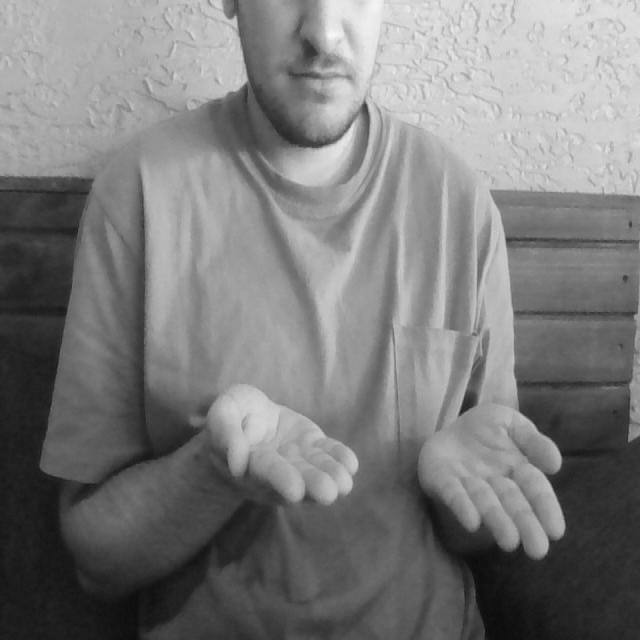Evet: (200, 379, 571, 563)
